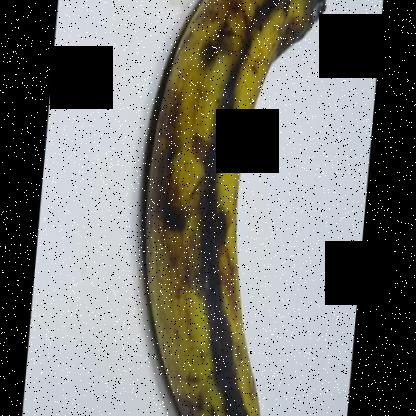overripe: (132, 1, 306, 415)
rotten: (240, 1, 342, 66)
